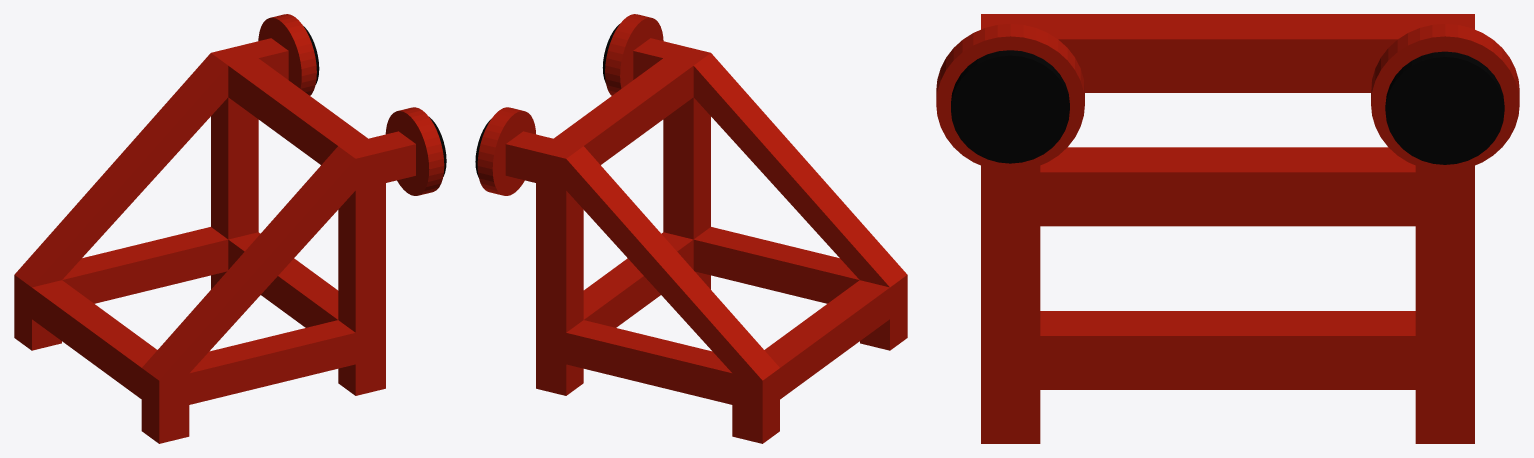
Rendered from tampon_chemin_de_fer.fbx.
The picture shows the model from 3 angles, left to right: view 1: azimuth 30°, elevation 25°; view 2: azimuth 150°, elevation 25°; view 3: azimuth 270°, elevation 25°; orthographic projection. The views are drawn at different scales.
Parts seen in each view (by area): view 1: tampon_chemin_de_fer; view 2: tampon_chemin_de_fer; view 3: tampon_chemin_de_fer, Cylindre, Cylindre.001.
Boxes of the visible parts, x1=… form: tampon_chemin_de_fer: x1=14, y1=14, x2=444, y2=443; tampon_chemin_de_fer: x1=477, y1=14, x2=907, y2=443; tampon_chemin_de_fer: x1=936, y1=14, x2=1519, y2=443; Cylindre: x1=1385, y1=51, x2=1504, y2=164; Cylindre.001: x1=951, y1=50, x2=1069, y2=163.
Bounding box in the file's own units: 1844 × 1650 × 1960.
